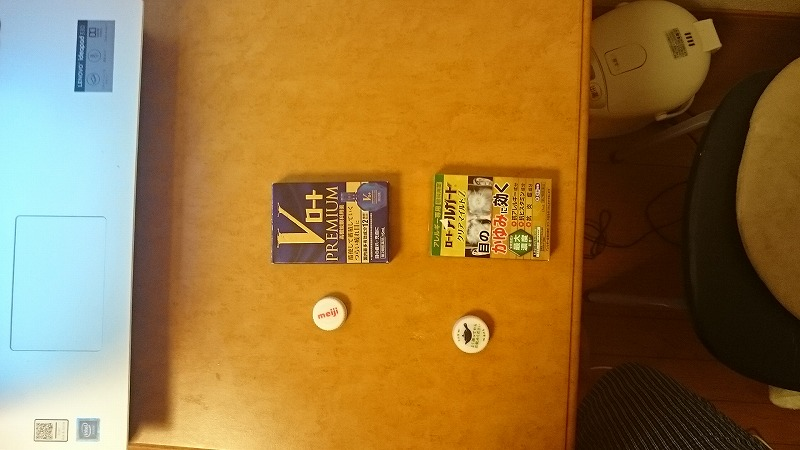A: (443, 310, 496, 358)
B: (310, 289, 350, 336)
C: (429, 169, 559, 269)
D: (269, 180, 394, 268)
